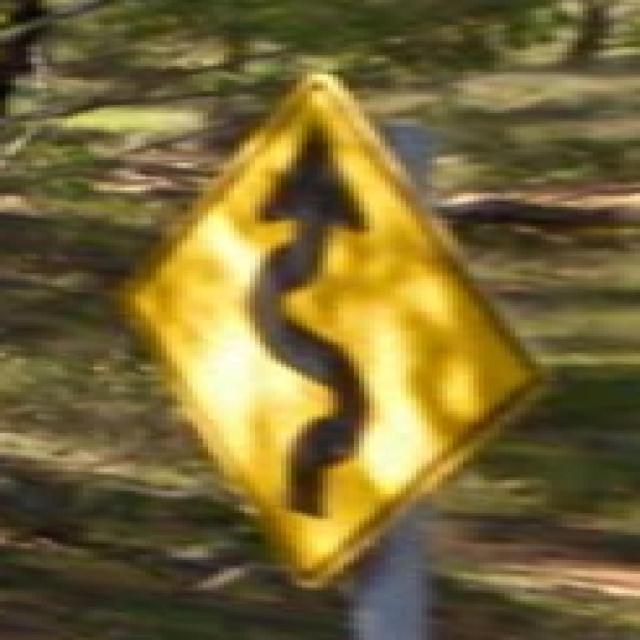Banyak Tikungan Pertama Kanan: (99, 63, 546, 588)
